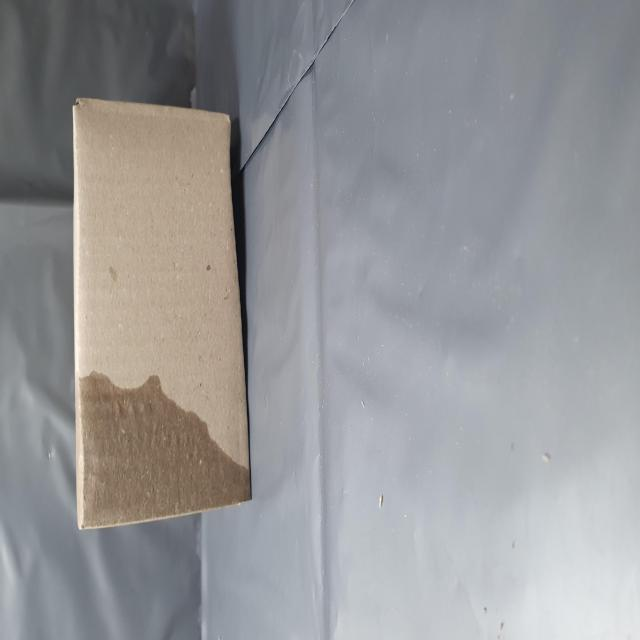wet: (61, 130, 160, 447)
